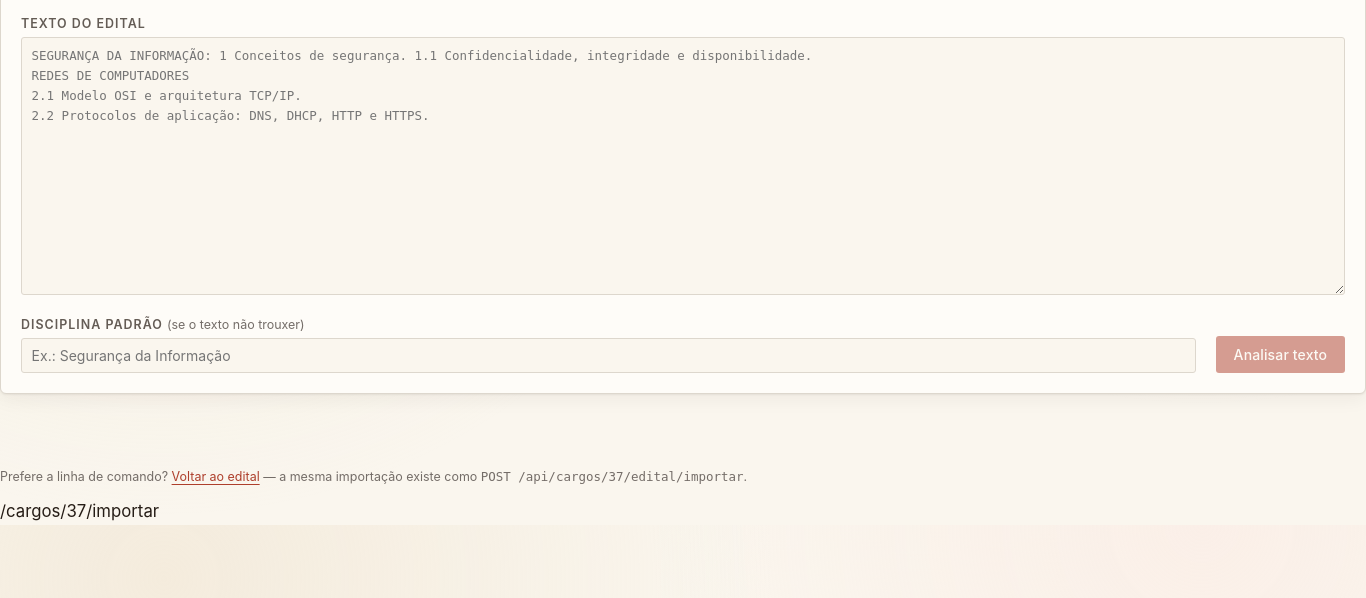
PaginaImportar — conferencia editavel › remover uma linha tira o item do que sera gravado
This screenshot has width=1366, height=598.
Step 1. Click the text box labelled "Texto do edital" → point(683, 166), box [21, 37, 1345, 295]
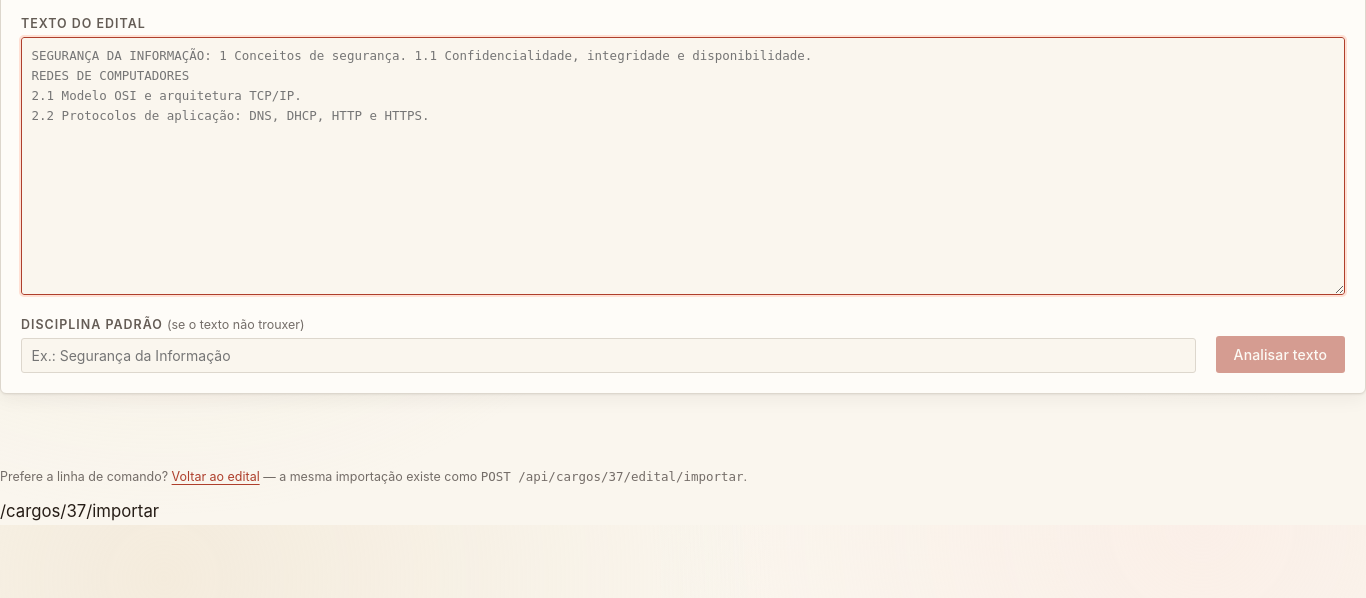
Step 2. Type keys "SEGURANÇA DA INFORMAÇÃO 1.1 Confidencialidade e integridade. 1.2 Criptografia simétrica. REDES 2.1 Modelo OSI."
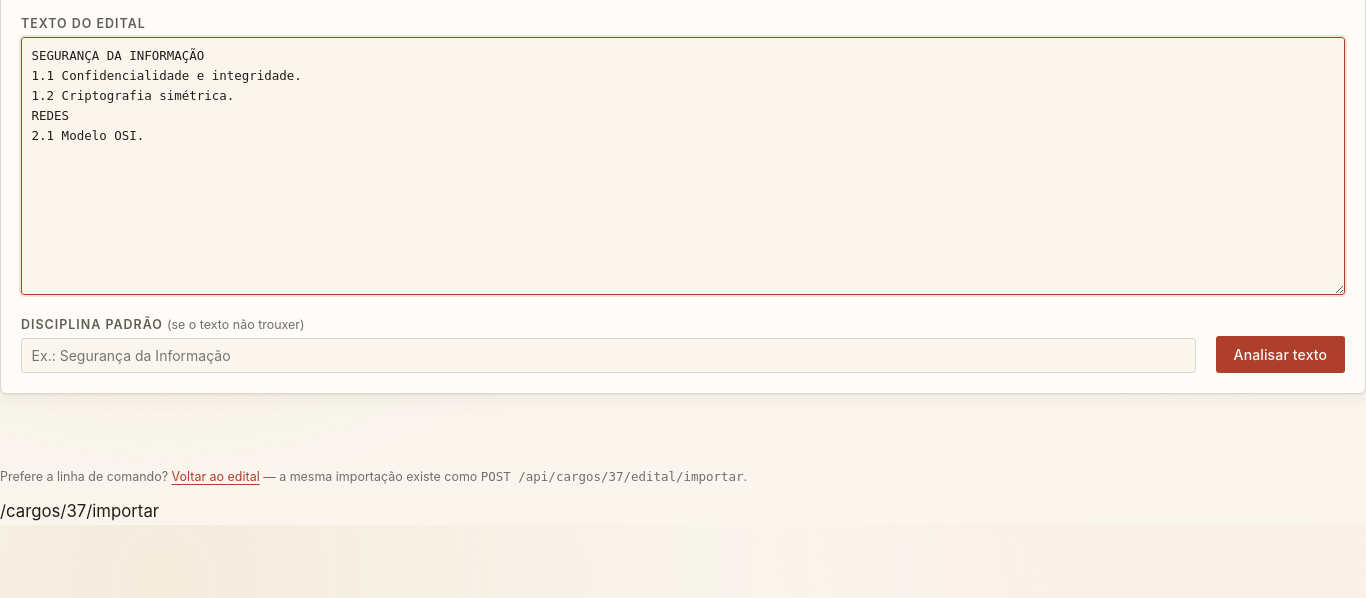
Step 3. Click the button "Analisar texto" → point(1280, 355), box [1216, 336, 1345, 373]
(page scrolled)
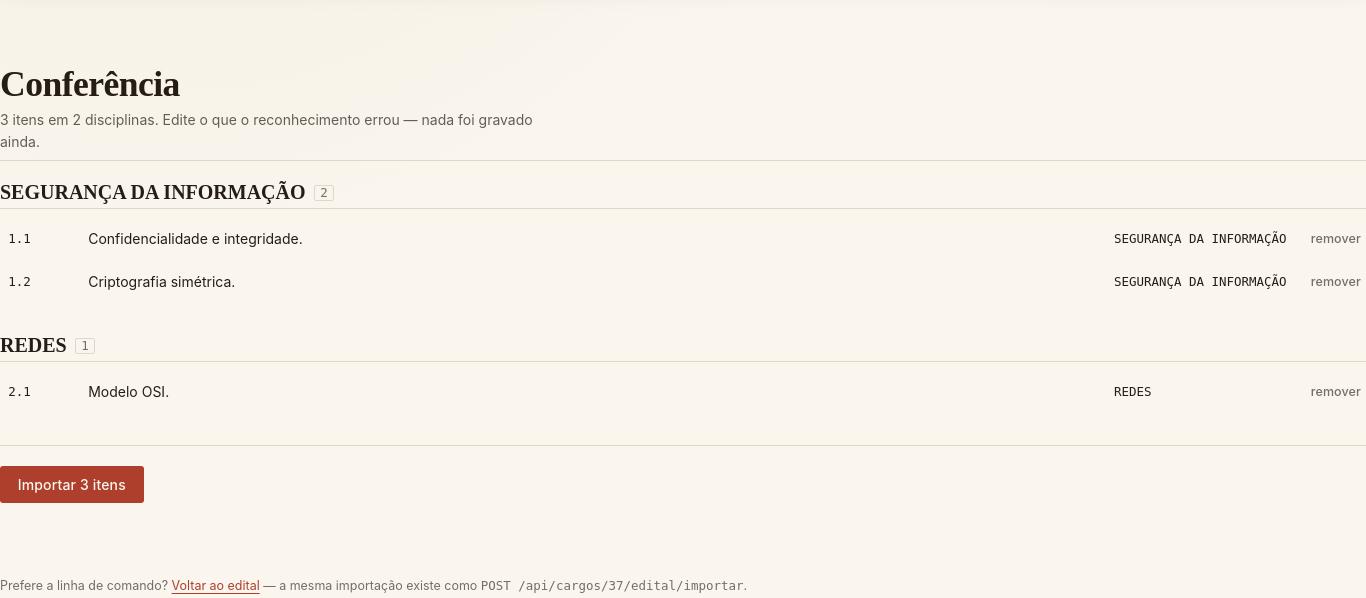
Step 4. Click the button with aria-label "Remover item 1" → point(1336, 238), box [1306, 221, 1365, 256]
(page scrolled)
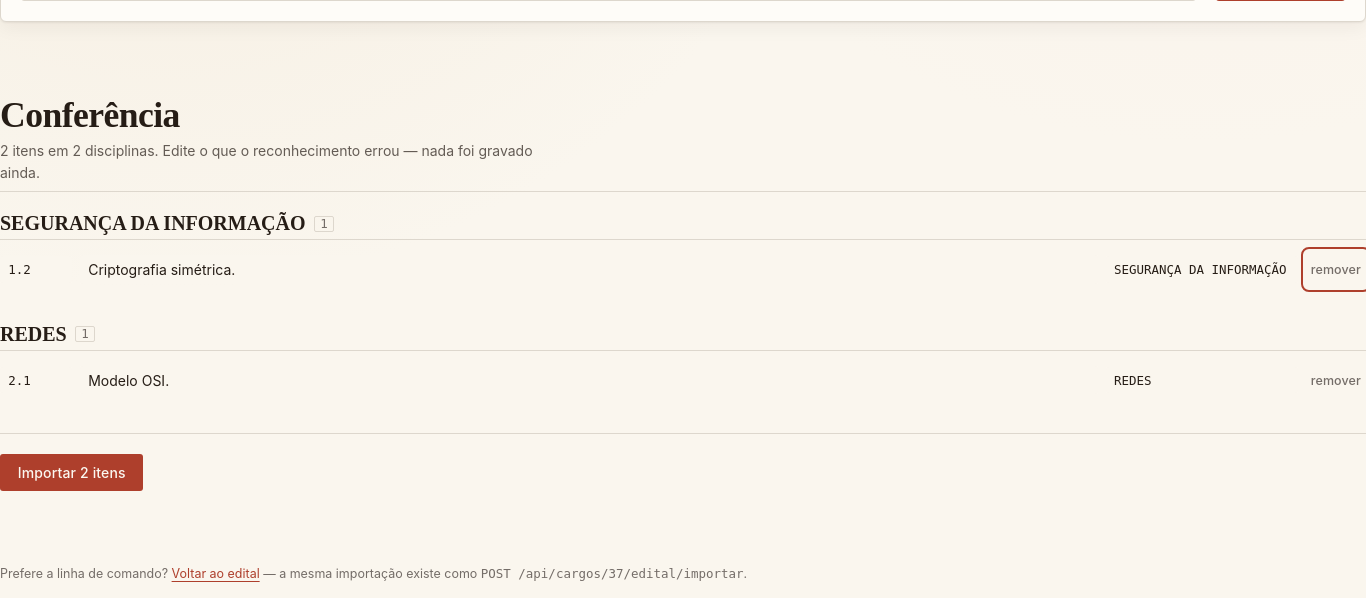
Now the button "Importar 2 itens" is shown, box [0, 454, 144, 491]
